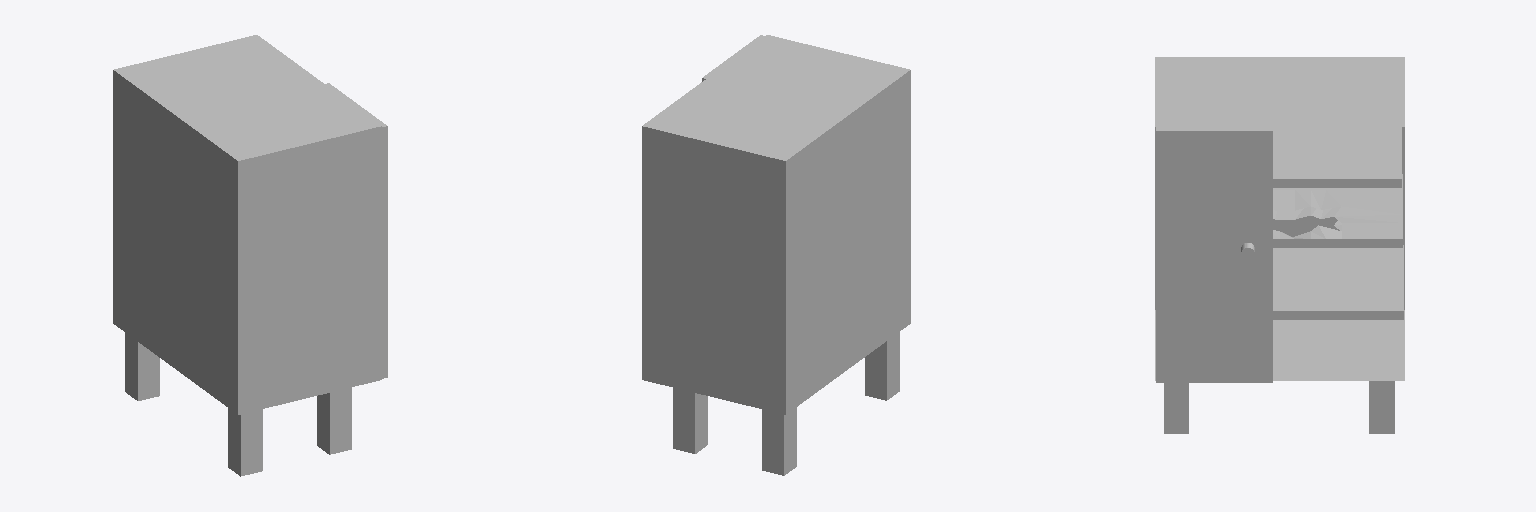
Rendered from armoirecasséeblend.obj.
The picture shows the model from 3 angles: view 1: azimuth 30°, elevation 25°; view 2: azimuth 150°, elevation 25°; view 3: azimuth 270°, elevation 25°; orthographic projection.
Visible parts, largest first — view 1: Cube; view 2: Cube; view 3: Cube.
Part boxes in pixels (left/top/right/bottom): Cube: left=113, top=35, right=387, bottom=476; Cube: left=642, top=35, right=910, bottom=475; Cube: left=1155, top=57, right=1404, bottom=433.
Size of the model in its own units: 3.62 by 6.88 by 4.87.